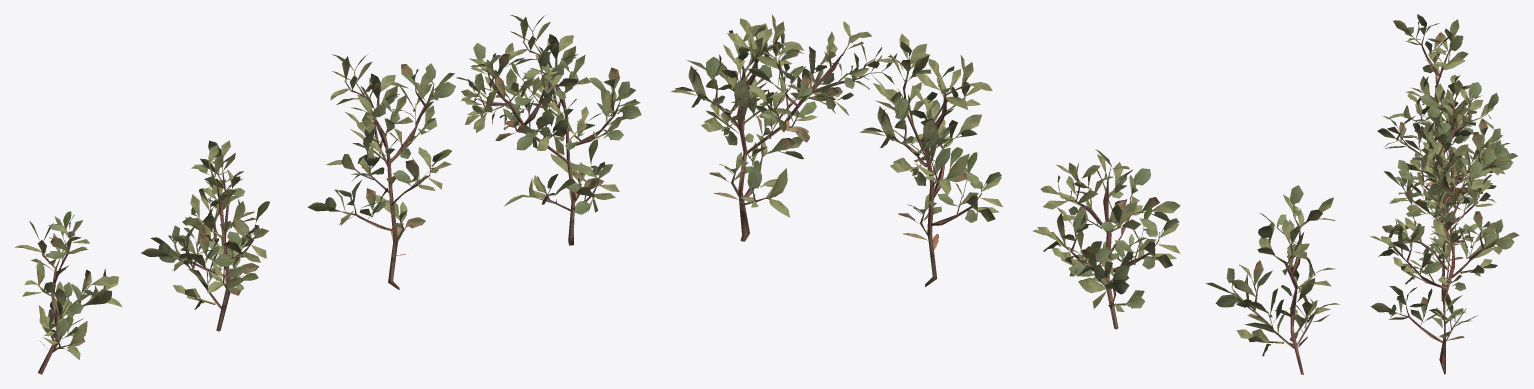
Rendered from shrub.glb.
The picture shows the model from 3 angles, left to right: view 1: azimuth 30°, elevation 25°; view 2: azimuth 150°, elevation 25°; view 3: azimuth 270°, elevation 25°; orthographic projection. The views are drawn at different scales.
Parts seen in each view (by area): view 1: shrub_04; view 2: shrub_04; view 3: shrub_04.
Part boxes in pixels (left/top/right/bottom): shrub_04: left=15, top=15, right=641, bottom=374; shrub_04: left=671, top=14, right=1339, bottom=374; shrub_04: left=1370, top=14, right=1519, bottom=374.
Size of the model in its own units: 0.5832 by 0.2189 by 0.1457.
1 material, 1 textured.
